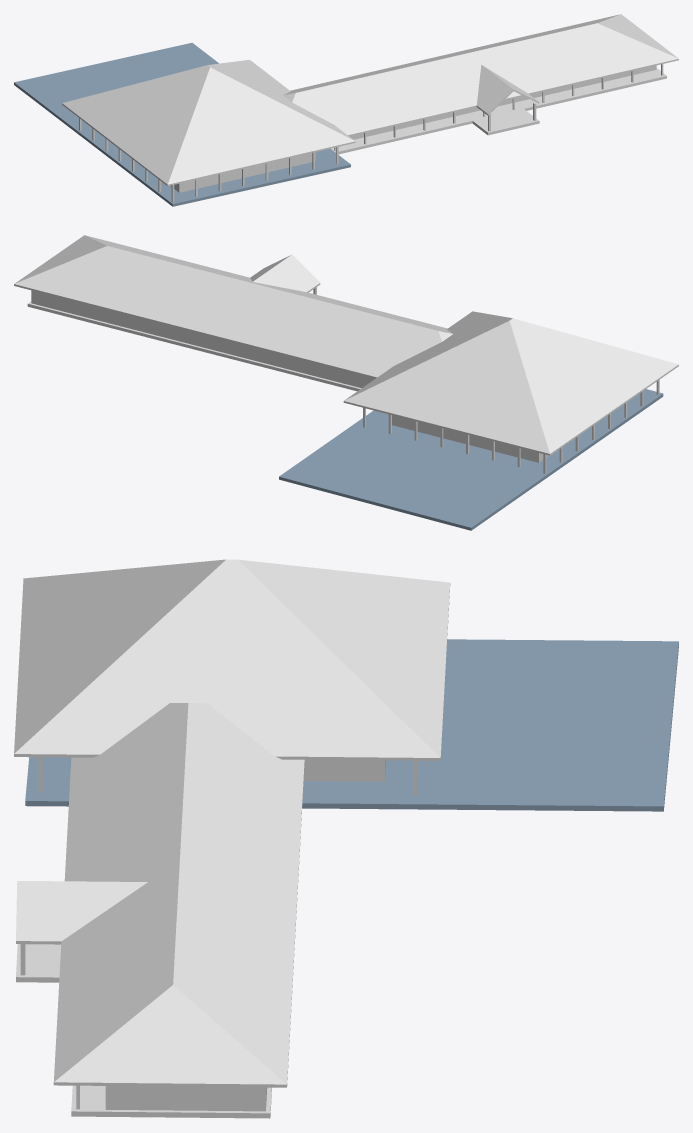
Rendered from arrivals-reception.glb.
3 views of the same model, one above another, from view 1: azimuth 30°, elevation 25°; view 2: azimuth 150°, elevation 25°; view 3: azimuth 270°, elevation 25° (orthographic). The views are drawn at different scales.
Visible parts, largest first — view 1: Arrivals Reception | roofs, Arrivals Reception | reception footprint, Arrivals Reception | wing floor, Arrivals Reception | glass, Arrivals Reception | posts; view 2: Arrivals Reception | roofs, Arrivals Reception | reception footprint, Arrivals Reception | glass, Arrivals Reception | wing floor, Arrivals Reception | posts; view 3: Arrivals Reception | roofs, Arrivals Reception | reception footprint, Arrivals Reception | glass, Arrivals Reception | wing floor.
Part boxes in pixels (left/top/right/bottom): Arrivals Reception | roofs: left=62, top=14, right=678, bottom=185; Arrivals Reception | reception footprint: left=14, top=42, right=350, bottom=206; Arrivals Reception | wing floor: left=331, top=68, right=666, bottom=154; Arrivals Reception | glass: left=170, top=65, right=656, bottom=192; Arrivals Reception | posts: left=79, top=64, right=663, bottom=202; Arrivals Reception | roofs: left=14, top=235, right=678, bottom=455; Arrivals Reception | reception footprint: left=279, top=389, right=663, bottom=530; Arrivals Reception | glass: left=31, top=290, right=548, bottom=462; Arrivals Reception | wing floor: left=27, top=301, right=361, bottom=391; Arrivals Reception | posts: left=313, top=287, right=659, bottom=473; Arrivals Reception | roofs: left=14, top=559, right=450, bottom=1087; Arrivals Reception | reception footprint: left=25, top=639, right=678, bottom=811; Arrivals Reception | glass: left=105, top=760, right=386, bottom=1111; Arrivals Reception | wing floor: left=16, top=944, right=271, bottom=1118.
Size of the model in its own units: 103 by 15.74 by 58.42.
